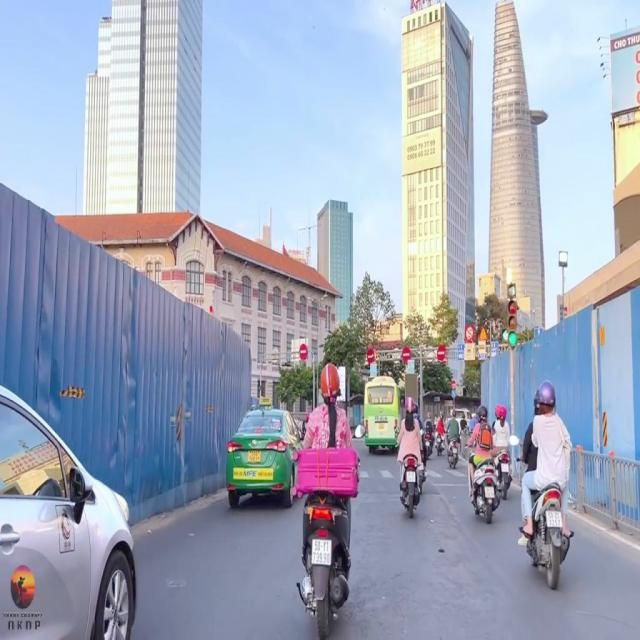cam_xe_2_banh_va_xe_3_banh_co_dong_co: (464, 326, 474, 344)
cam_xe_di_nguoc_chieu: (437, 342, 447, 361), (401, 344, 411, 363), (299, 344, 308, 362), (367, 348, 376, 364)
giao_nhau_voi_duong_uu_tien: (478, 322, 488, 342)
khac: (464, 341, 475, 362), (491, 340, 499, 358), (480, 339, 488, 353), (458, 343, 464, 360), (479, 352, 487, 360)
